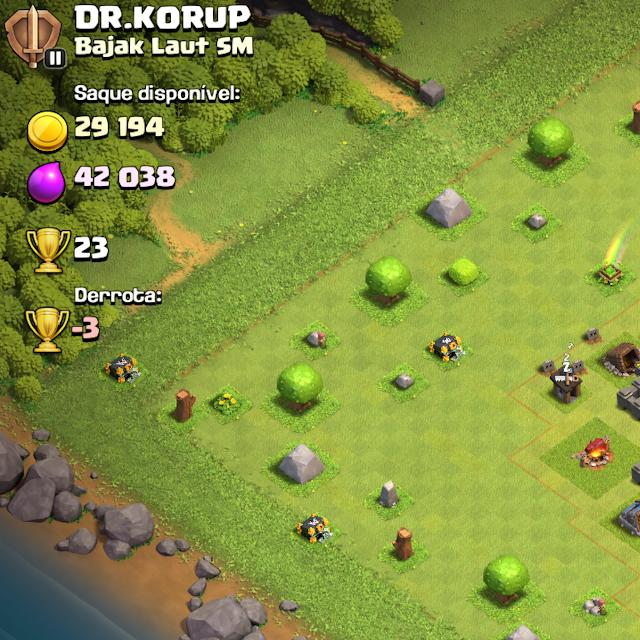ValueCoin: (74, 114, 170, 148)
ValueElixir: (72, 159, 179, 201)
